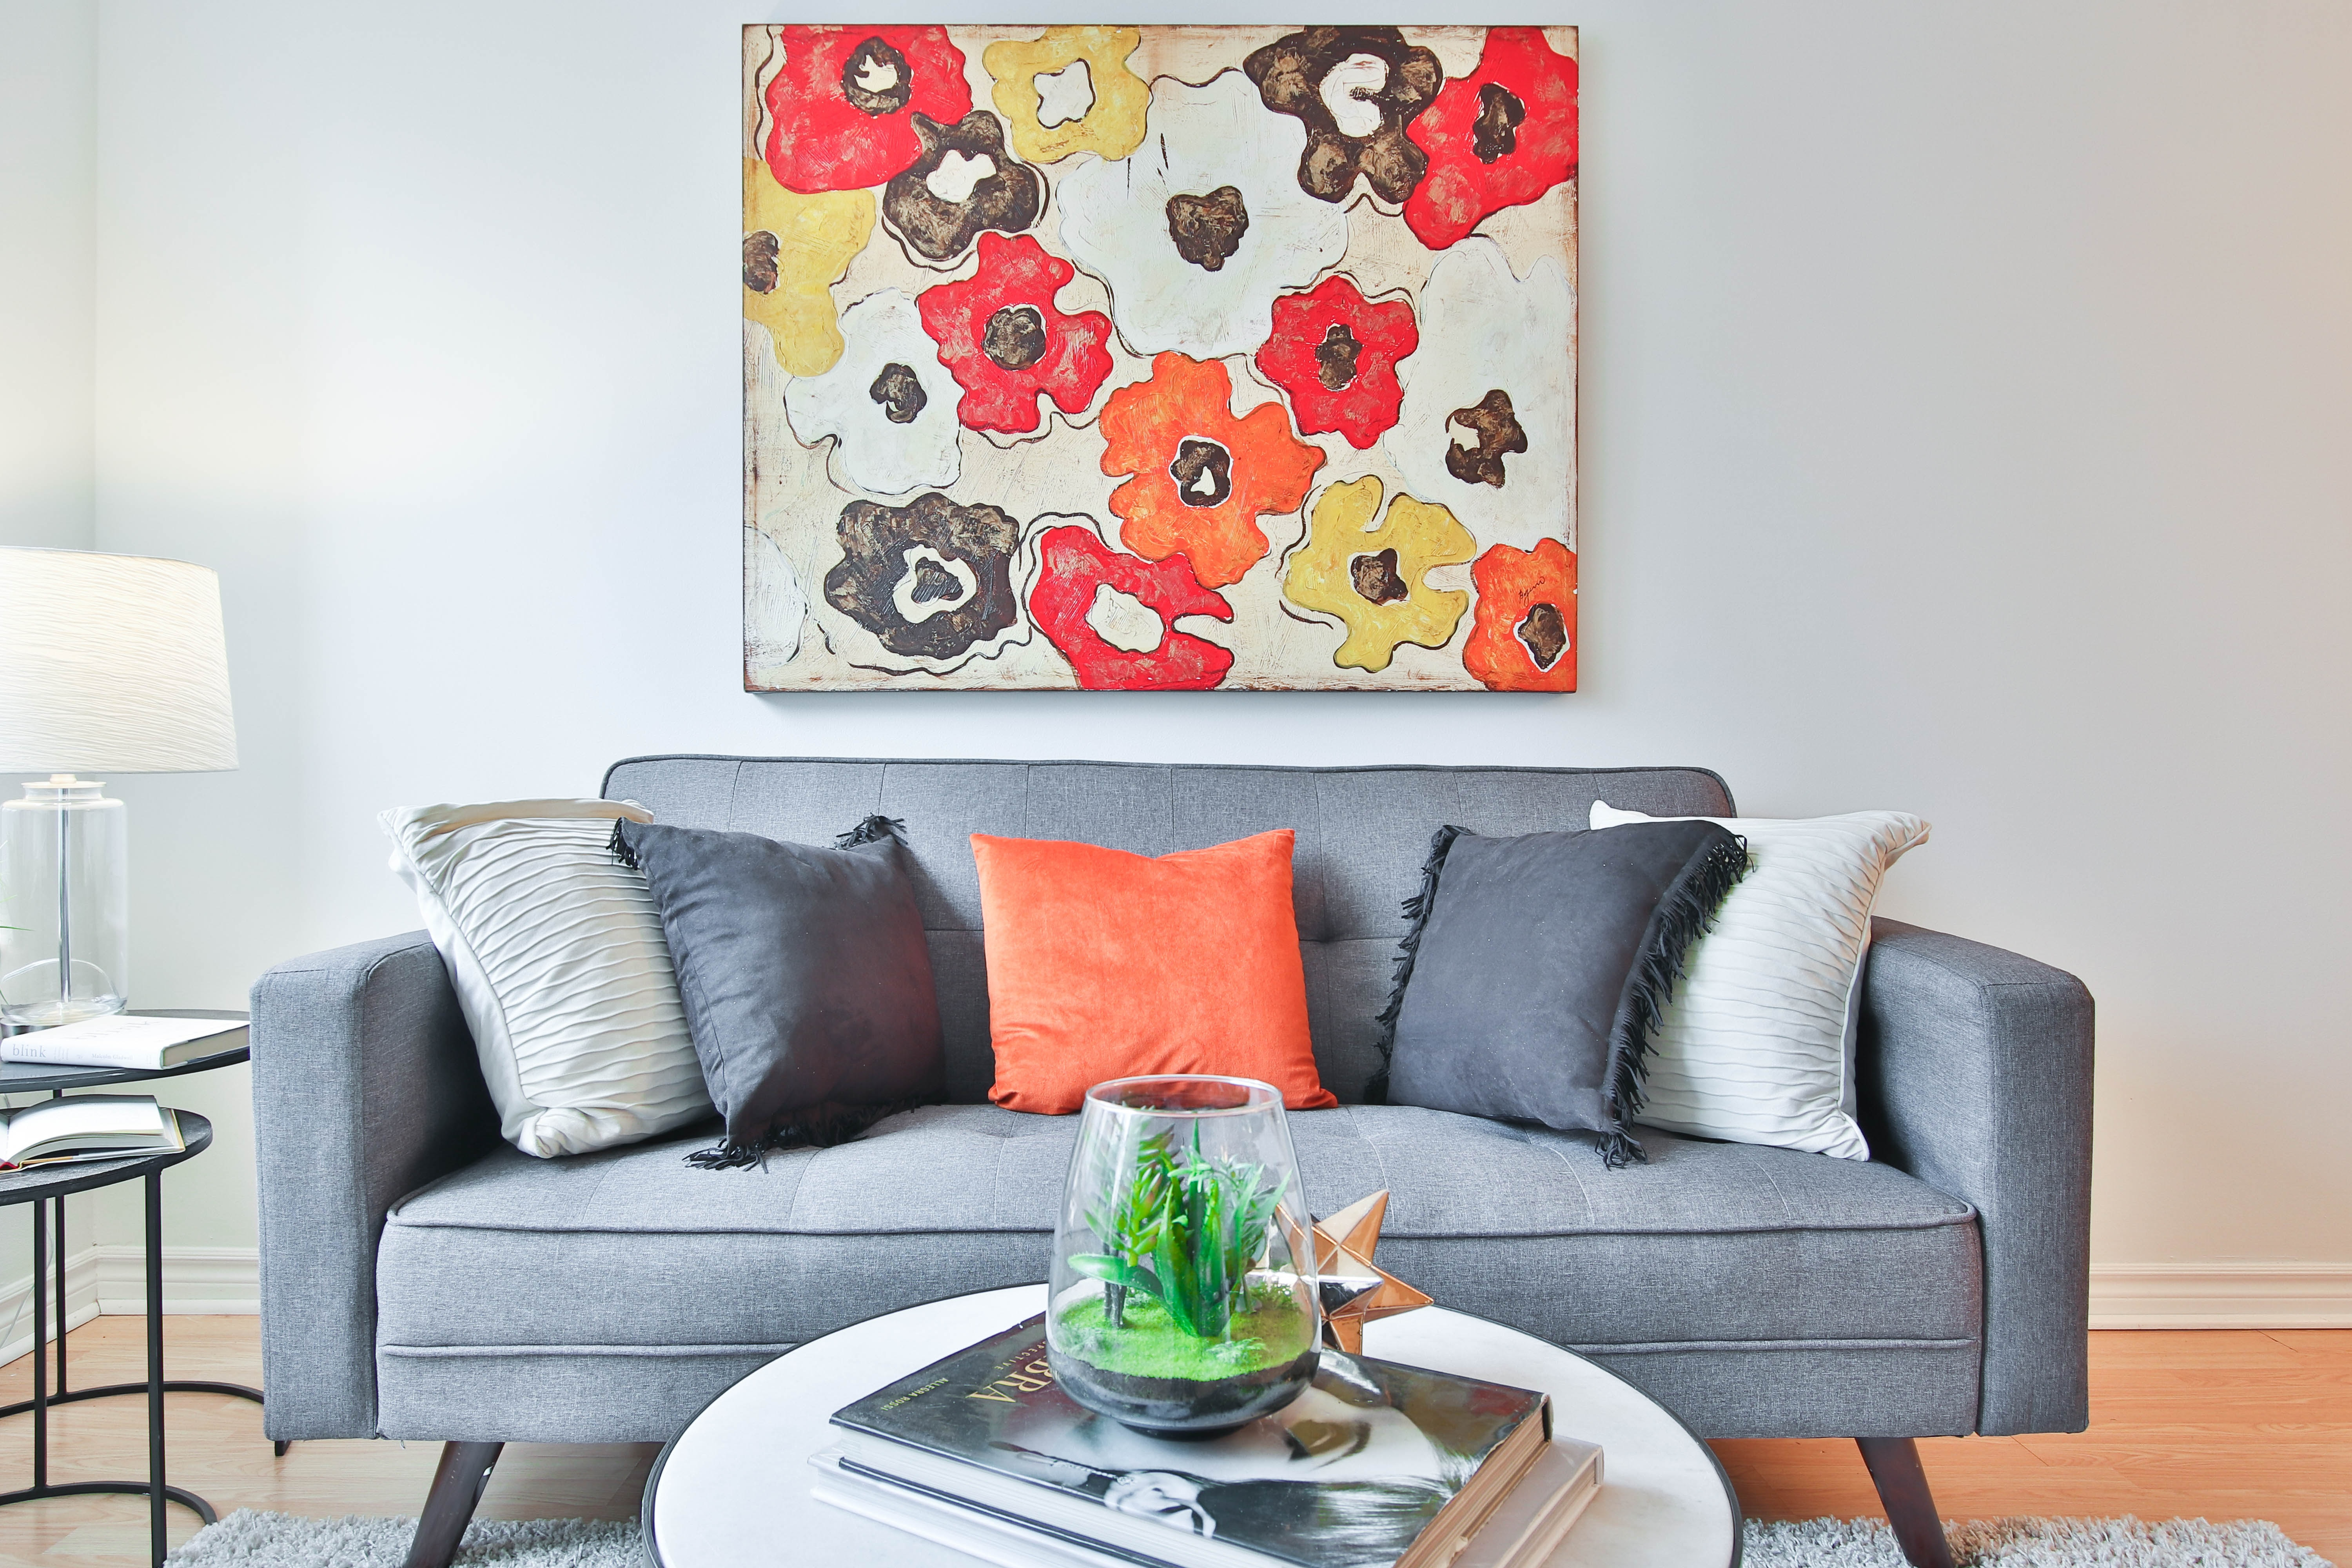Painting: (723, 14, 1586, 703)
Sofa: (233, 761, 2147, 1568)
